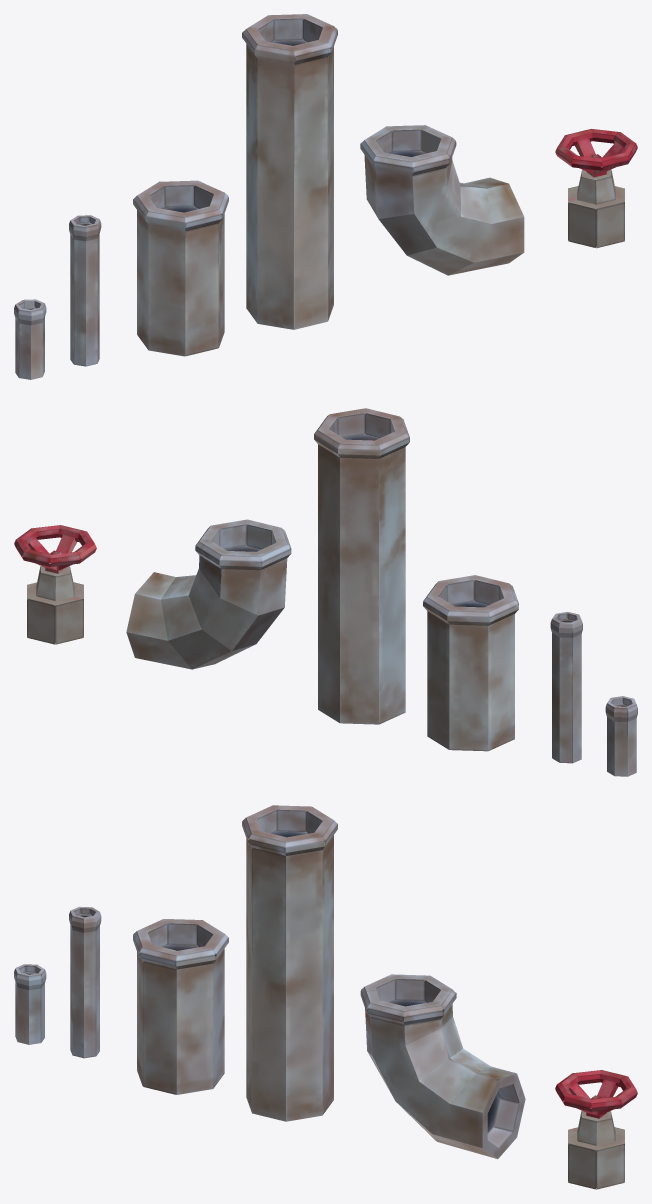
The model's file is Pipes.fbx.
3 views of the same model, one above another, from view 1: azimuth 30°, elevation 25°; view 2: azimuth 150°, elevation 25°; view 3: azimuth 330°, elevation 25° (orthographic).
Visible parts, largest first — view 1: Wide_L_Pipe, Wide_Curve_Pipe, Wide_S_Pipe, Slim_L_Pipe, ValveBase, ValveHandle, Slim_S_Pipe; view 2: Wide_L_Pipe, Wide_Curve_Pipe, Wide_S_Pipe, Slim_L_Pipe, ValveBase, ValveHandle, Slim_S_Pipe; view 3: Wide_L_Pipe, Wide_Curve_Pipe, Wide_S_Pipe, Slim_L_Pipe, ValveBase, ValveHandle, Slim_S_Pipe.
Part boxes in pixels (bbox=[...]): Wide_L_Pipe: bbox=[242, 14, 337, 329]; Wide_Curve_Pipe: bbox=[360, 125, 524, 275]; Wide_S_Pipe: bbox=[133, 180, 228, 356]; Slim_L_Pipe: bbox=[69, 215, 101, 366]; ValveBase: bbox=[568, 169, 624, 248]; ValveHandle: bbox=[555, 129, 637, 177]; Slim_S_Pipe: bbox=[14, 299, 46, 379]; Wide_L_Pipe: bbox=[314, 408, 409, 724]; Wide_Curve_Pipe: bbox=[126, 519, 291, 669]; Wide_S_Pipe: bbox=[423, 575, 518, 751]; Slim_L_Pipe: bbox=[550, 612, 582, 763]; ValveBase: bbox=[27, 566, 83, 644]; ValveHandle: bbox=[14, 525, 96, 573]; Slim_S_Pipe: bbox=[605, 696, 637, 776]; Wide_L_Pipe: bbox=[242, 805, 337, 1121]; Wide_Curve_Pipe: bbox=[360, 974, 525, 1159]; Wide_S_Pipe: bbox=[133, 919, 228, 1094]; Slim_L_Pipe: bbox=[69, 906, 101, 1058]; ValveBase: bbox=[568, 1111, 624, 1189]; ValveHandle: bbox=[555, 1070, 637, 1118]; Slim_S_Pipe: bbox=[14, 964, 46, 1044].
Bounding box in the file's own units: 545 × 238 × 72.18.
2 materials, 2 textured.
